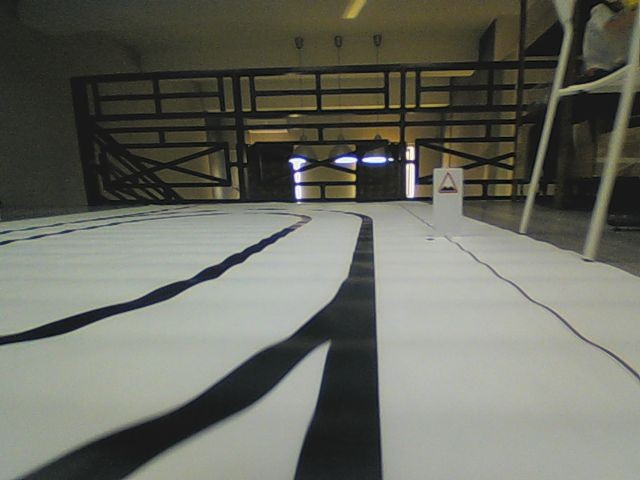Nerov: (436, 171, 459, 195)
